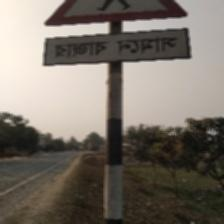Market-in-front: (43, 0, 193, 67)
